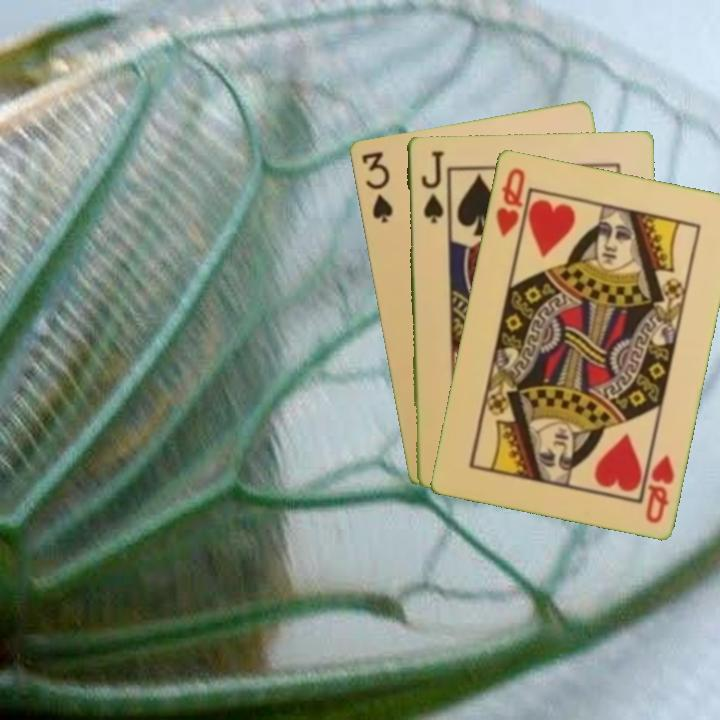3s: (357, 147, 396, 226)
Js: (417, 147, 445, 226)
Qh: (641, 450, 677, 526), (492, 164, 528, 239)
